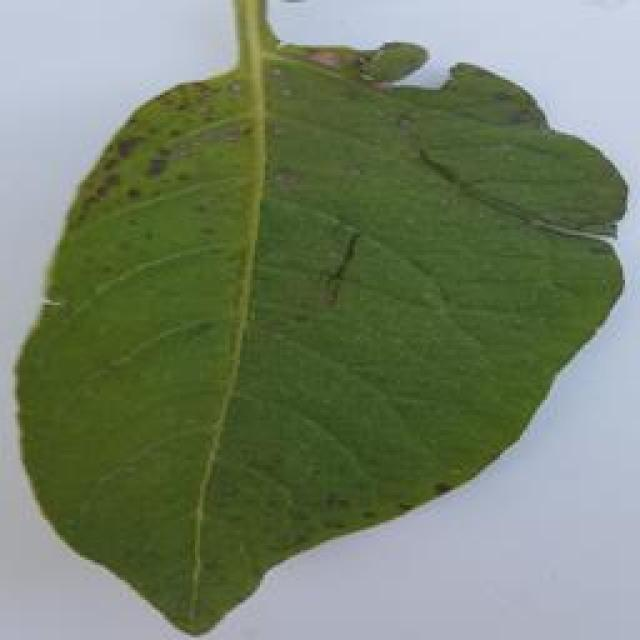Potato_Early_Blight: (5, 8, 636, 634)
